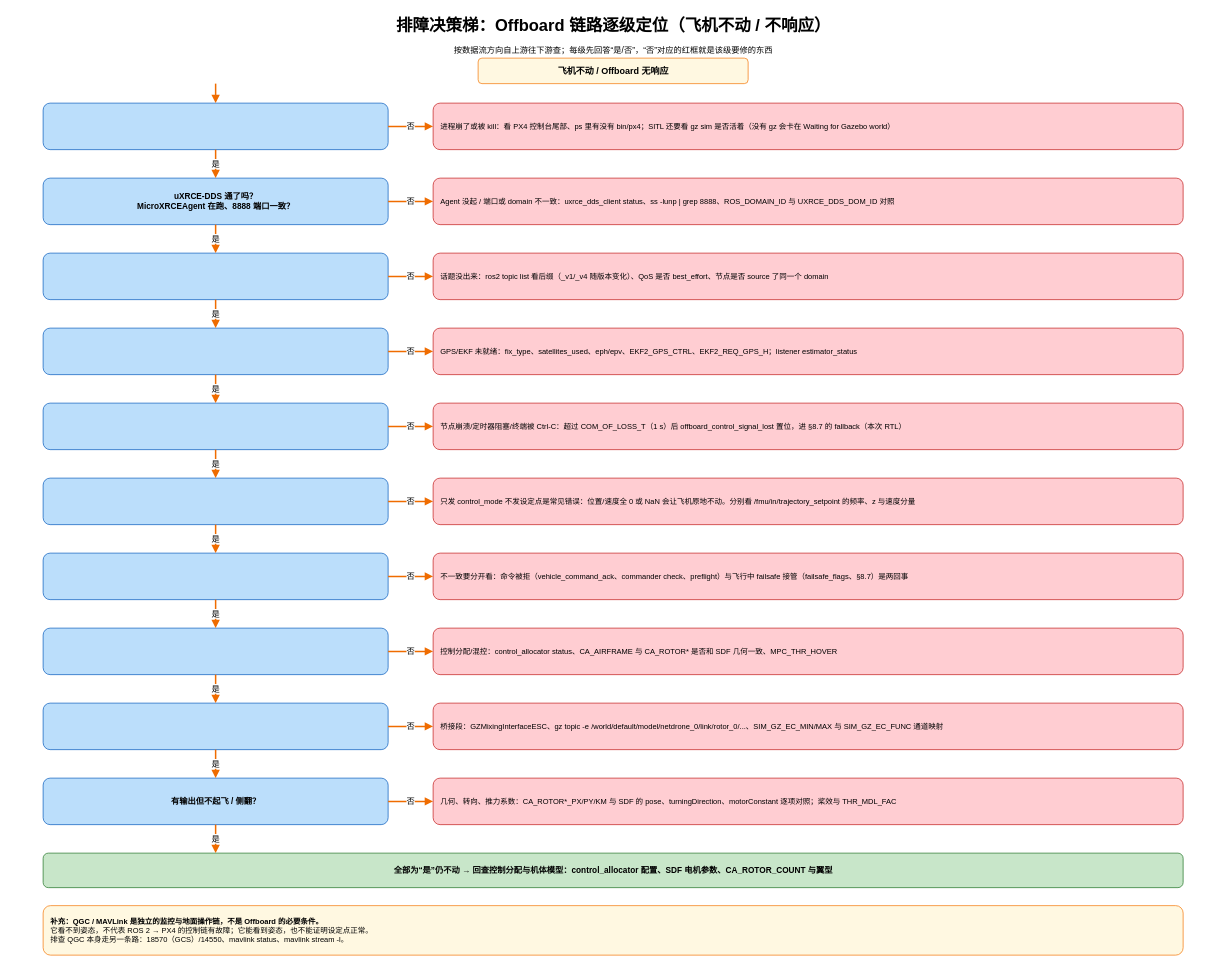
This 1226x968 diagram has some shape labels left out. The shapes that lost their labels are listed below. From the top down, each one's centre as x and y in pixels, then its label:
At point 215,126: "PX4 主进程在跑？ commander status 有输出？".
At point 215,276: "ROS 2 收到 /fmu/out/* 了吗？".
At point 215,351: "vehicle_local_position 的 xy_valid / z_valid 为真？".
At point 215,426: "offboard_control_mode 在按周期发？".
At point 215,501: "trajectory_setpoint 也在发、数值合理？".
At point 215,576: "nav_state 与 nav_state_user_intention 一致？".
At point 215,651: "actuator_motors 有输出？".
At point 215,726: "Gazebo 收到电机指令？ 转速在 MIN..MAX 区间？".
